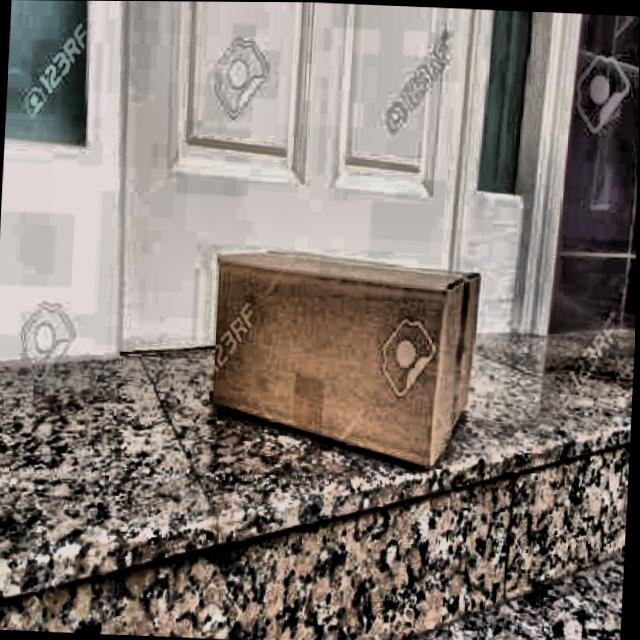Cardbox: (208, 251, 482, 472)
